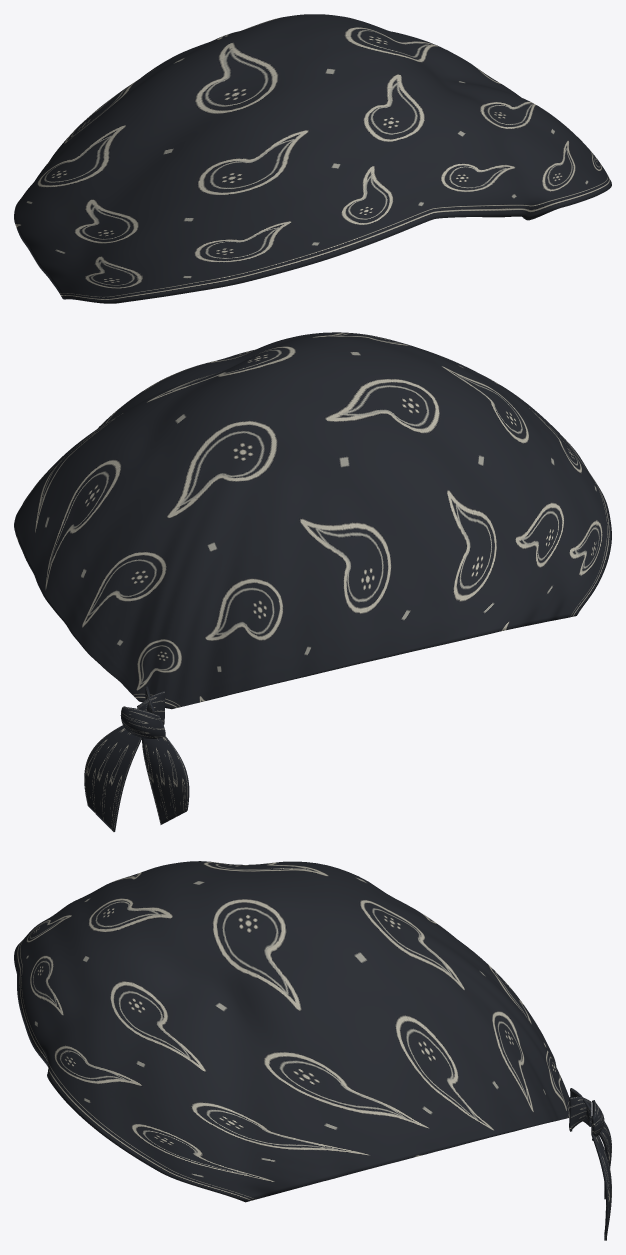
The model's file is Feminine-bob-bandana.glb.
The picture shows the model from 3 angles, top to bottom: view 1: azimuth 30°, elevation 25°; view 2: azimuth 150°, elevation 25°; view 3: azimuth 270°, elevation 25°; orthographic projection.
Visible parts, largest first — view 1: Bandana / triangular crown scarf; view 2: Bandana / triangular crown scarf, Bandana / hemmed tail 1, Bandana / hemmed tail -1, Bandana / rounded knot fold; view 3: Bandana / triangular crown scarf, Bandana / hemmed tail 1.
Part boxes in pixels (box(x1,y1,x2,y2)): Bandana / triangular crown scarf: box(14, 14, 611, 303); Bandana / triangular crown scarf: box(14, 332, 611, 709); Bandana / hemmed tail 1: box(84, 725, 141, 831); Bandana / hemmed tail -1: box(142, 736, 189, 824); Bandana / rounded knot fold: box(120, 706, 165, 739); Bandana / triangular crown scarf: box(14, 861, 570, 1202); Bandana / hemmed tail 1: box(591, 1124, 611, 1240).
Bounding box in the file's own units: 0.7578 × 0.4775 × 0.7522.
Materials: 1 (1 with a texture image).
